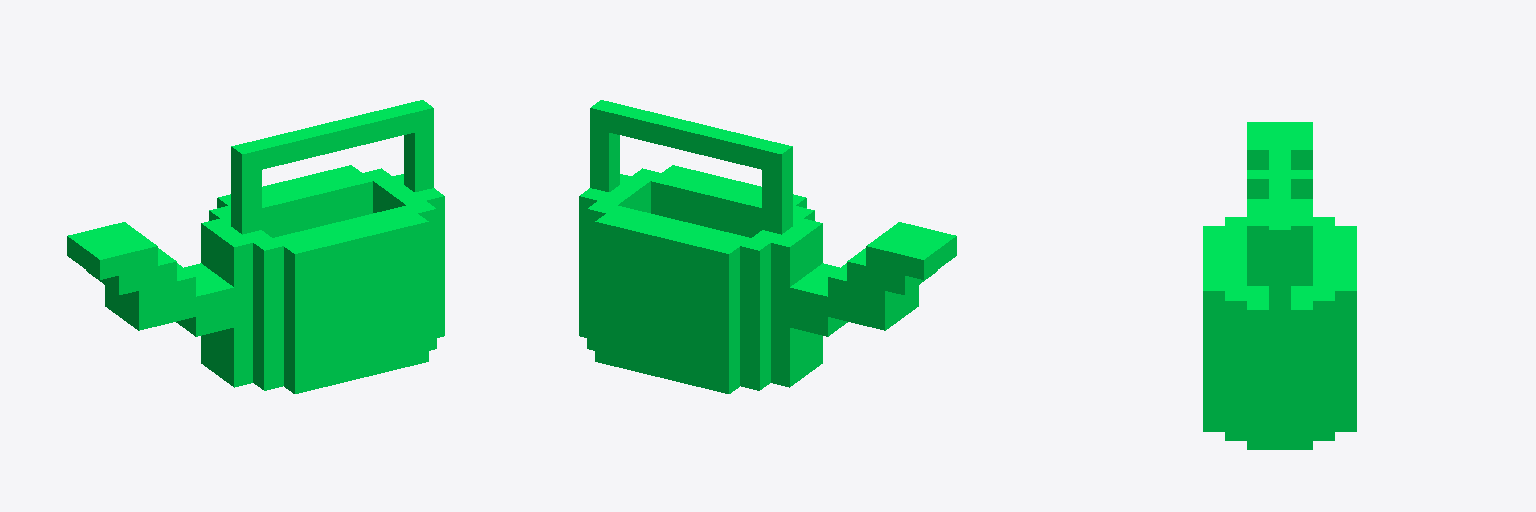
3 views of the same model, side by side, from view 1: azimuth 30°, elevation 25°; view 2: azimuth 150°, elevation 25°; view 3: azimuth 270°, elevation 25° (orthographic).
Visible parts, largest first — view 1: object 1; view 2: object 1; view 3: object 1.
Part boxes in pixels (x1,y1,x2,y2): object 1: (67,100,444,393); object 1: (579,100,956,393); object 1: (1203,122,1356,449).
Bounding box in the file's own units: 1.8 × 1.1 × 0.7.
Materials: 1 (1 with a texture image).